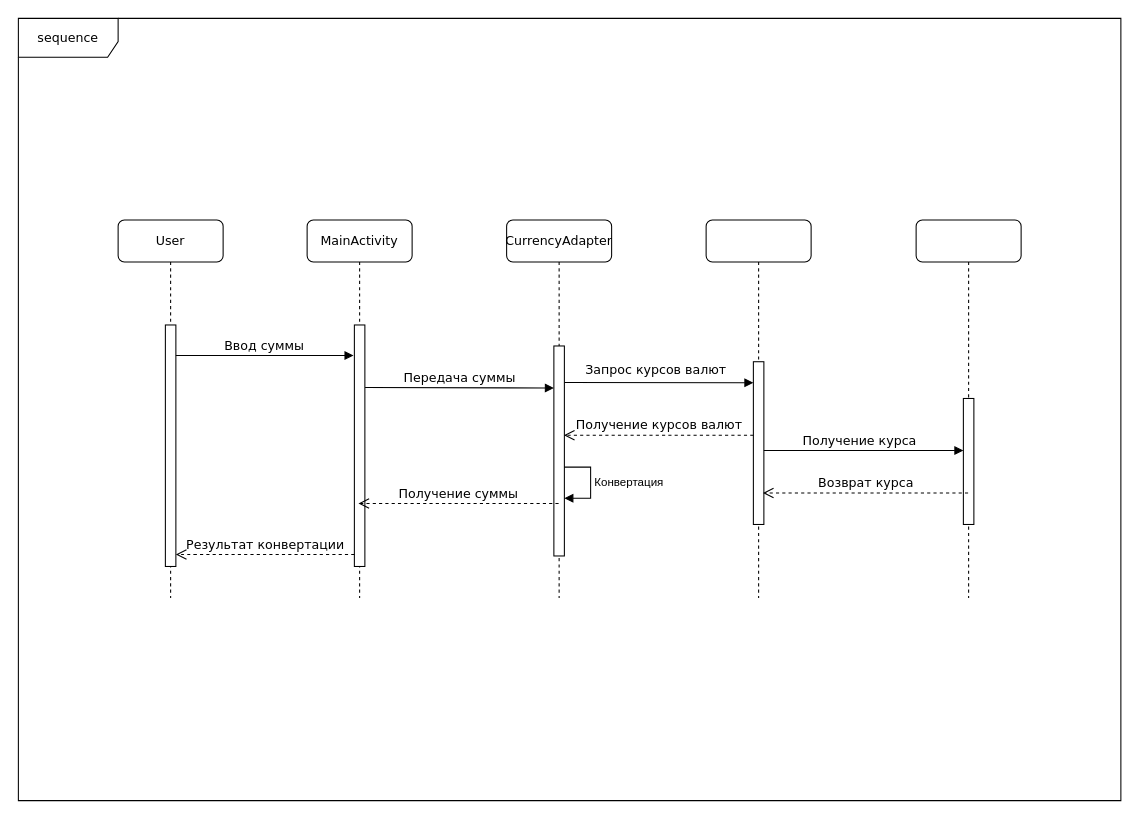
Some shapes in this 1139 by 819 pixel diagram are drawn without their labels. The shapes that lost their labels are listed below. From the top down, each one's box as (x1, y1, x2, y2) in pixels, then its label:
(705, 219, 811, 598): ApiService
(915, 219, 1021, 598): Bank
